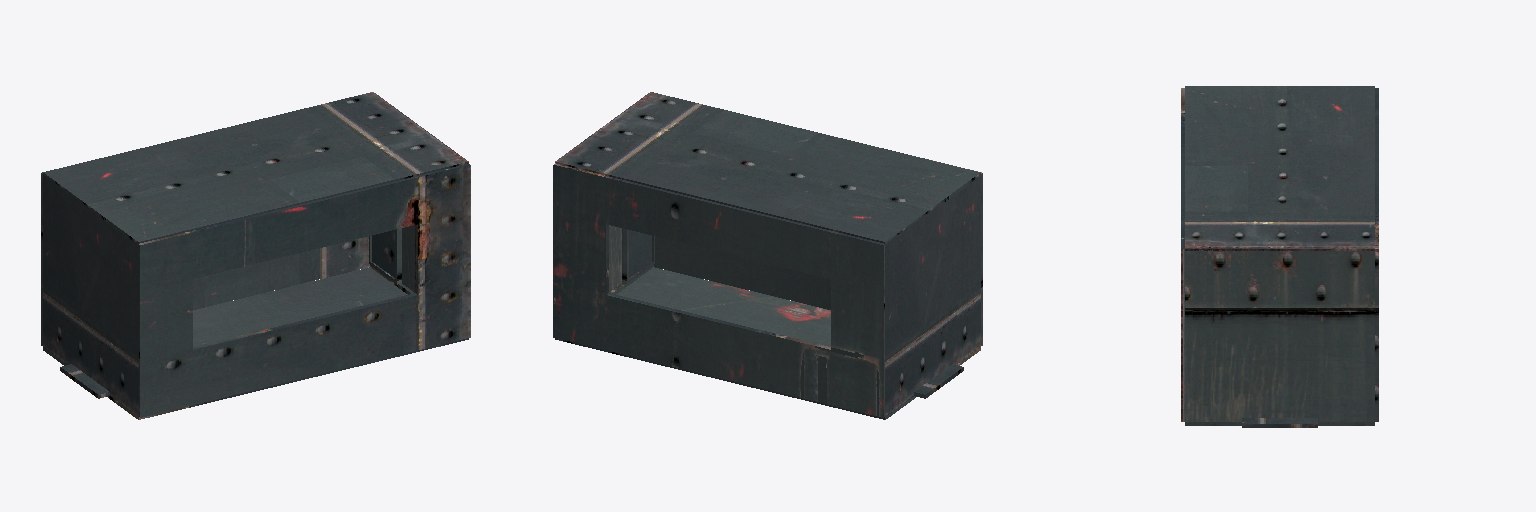
3 views of the same model, side by side, from view 1: azimuth 30°, elevation 25°; view 2: azimuth 150°, elevation 25°; view 3: azimuth 270°, elevation 25° (orthographic).
Parts seen in each view (by area): view 1: Suelo_Cube.003; view 2: Suelo_Cube.003; view 3: Suelo_Cube.003.
Boxes of the visible parts, x1,y1,x2,y2 form: Suelo_Cube.003: [41, 92, 470, 419]; Suelo_Cube.003: [553, 92, 982, 419]; Suelo_Cube.003: [1181, 86, 1378, 427].
Bounding box in the file's own units: 21.4 × 10.3 × 10.4.
Materials: 1 (1 with a texture image).